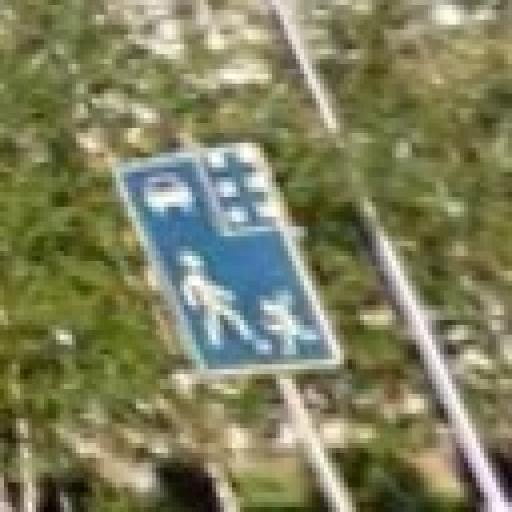traffic_sign: (113, 139, 345, 380)
